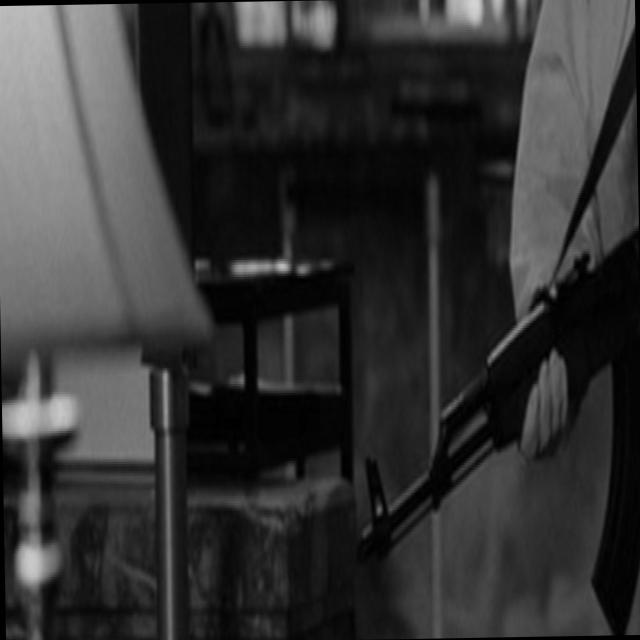Guns: (352, 180, 640, 639)
